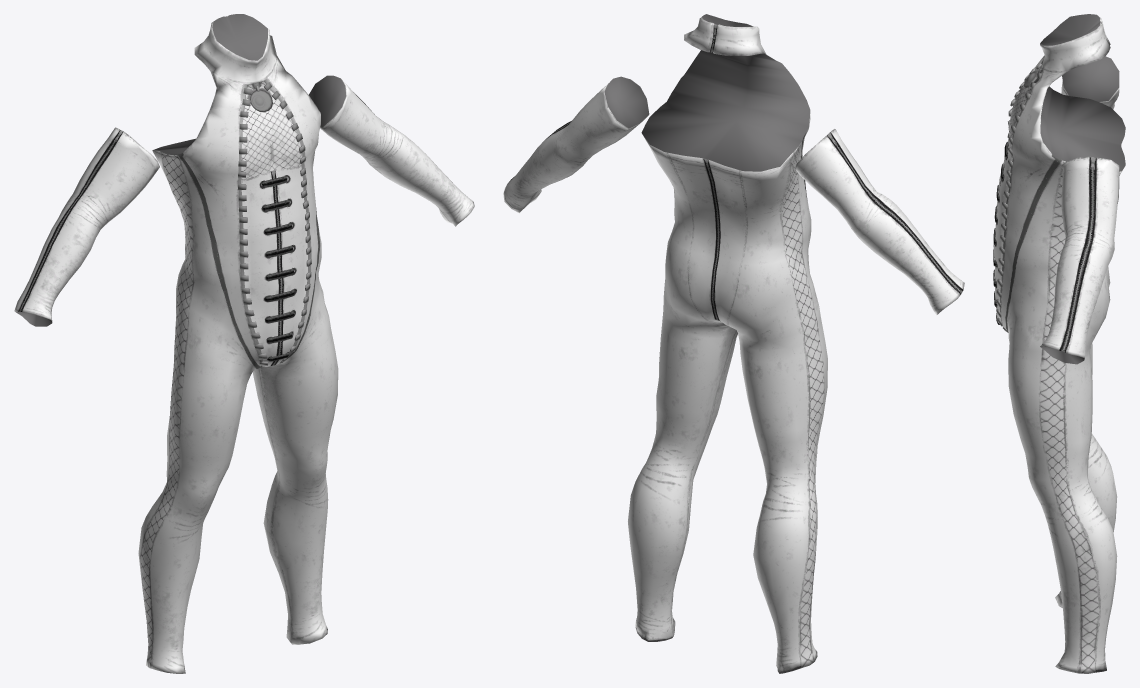
Rendered from SurvivorMale_Chest_Bodysuit_Zipper_LOD0.glb.
3 views of the same model, side by side, from view 1: azimuth 30°, elevation 25°; view 2: azimuth 150°, elevation 25°; view 3: azimuth 270°, elevation 25° (orthographic). The views are drawn at different scales.
Parts seen in each view (by area): view 1: Hoodie; view 2: Hoodie; view 3: Hoodie.
Boxes of the visible parts, left/top/right/bottom form: Hoodie: left=14, top=14, right=474, bottom=673; Hoodie: left=503, top=14, right=964, bottom=673; Hoodie: left=993, top=14, right=1125, bottom=673.
Size of the model in its own units: 1.16 by 1.56 by 0.3011.
Materials: 1 (1 with a texture image).
